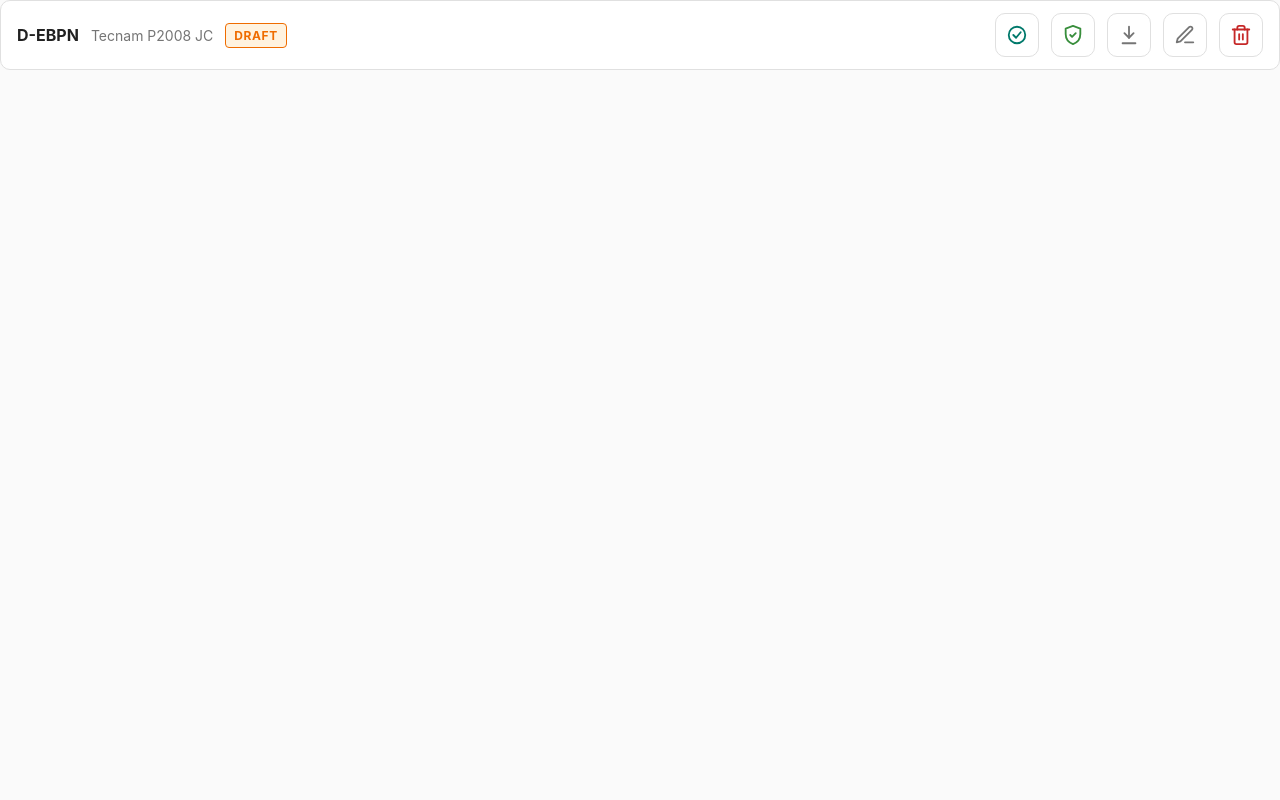
Scenario: FleetList — delete confirmation + undo › does not delete (no undo toast) when the confirmation is cancelled
The image size is (1280, 800).
What coordinates should you click on to do the following:
click the button with class "btn-danger"
I would click on:
 (1241, 35)
Its box is 1219,13 -> 1263,57.
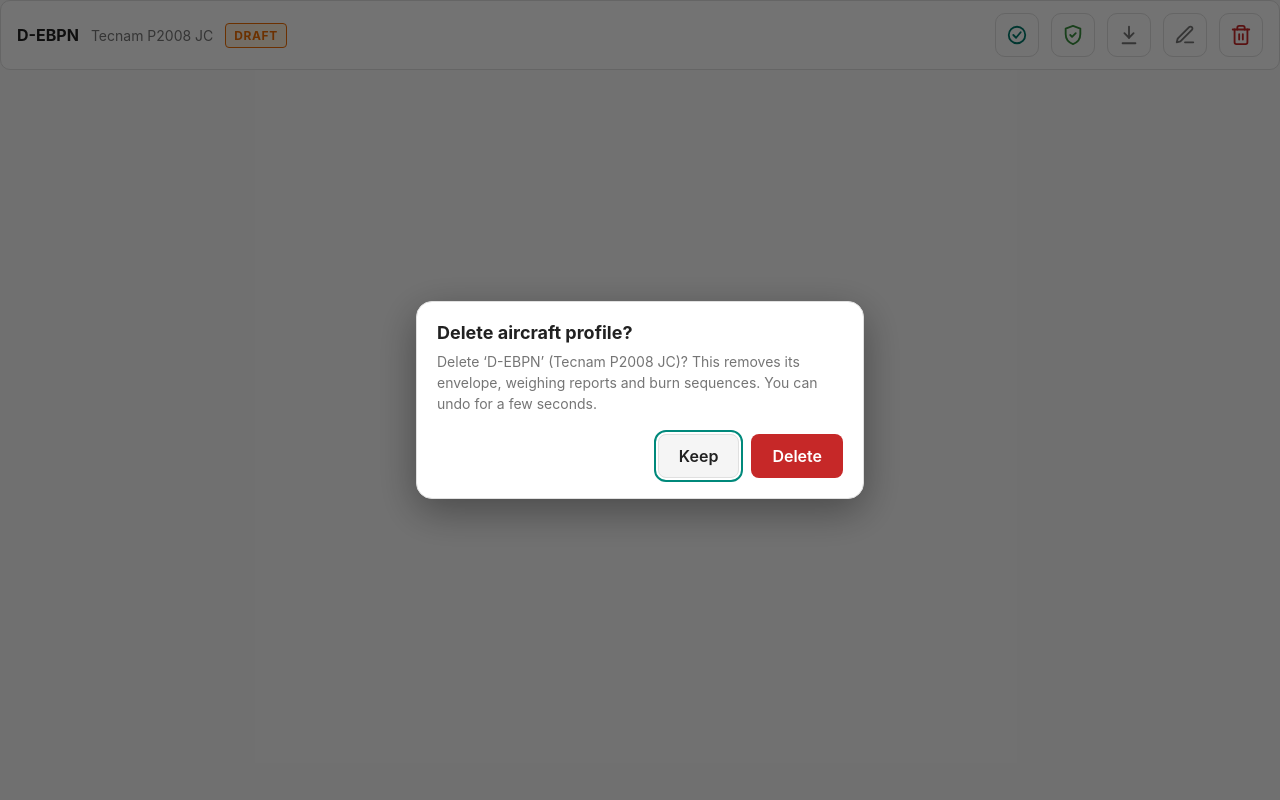
What coordinates should you click on to do the following:
click the button with class "confirm-dialog__btn--cancel"
I would click on:
 (699, 456)
Its box is 658,434 -> 739,478.
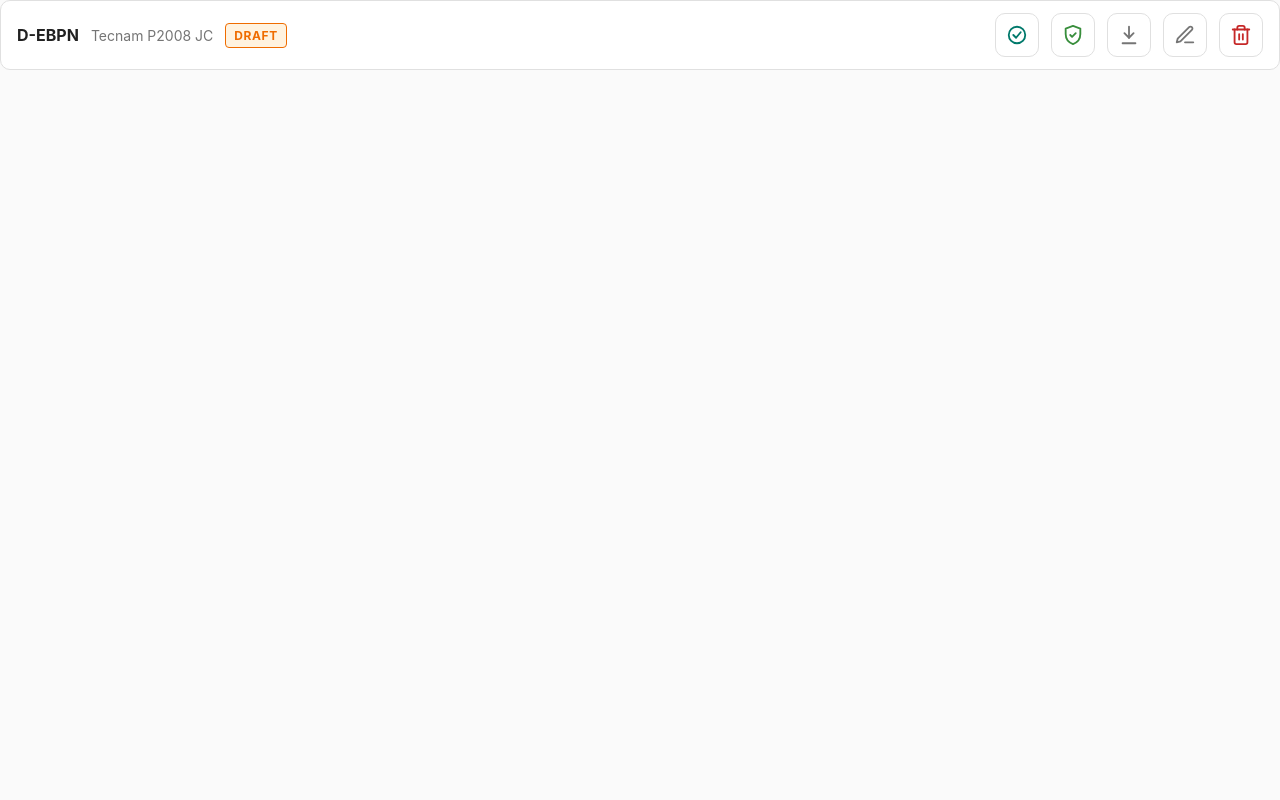
expect the dialog with class "confirm-dialog" is gone: met
